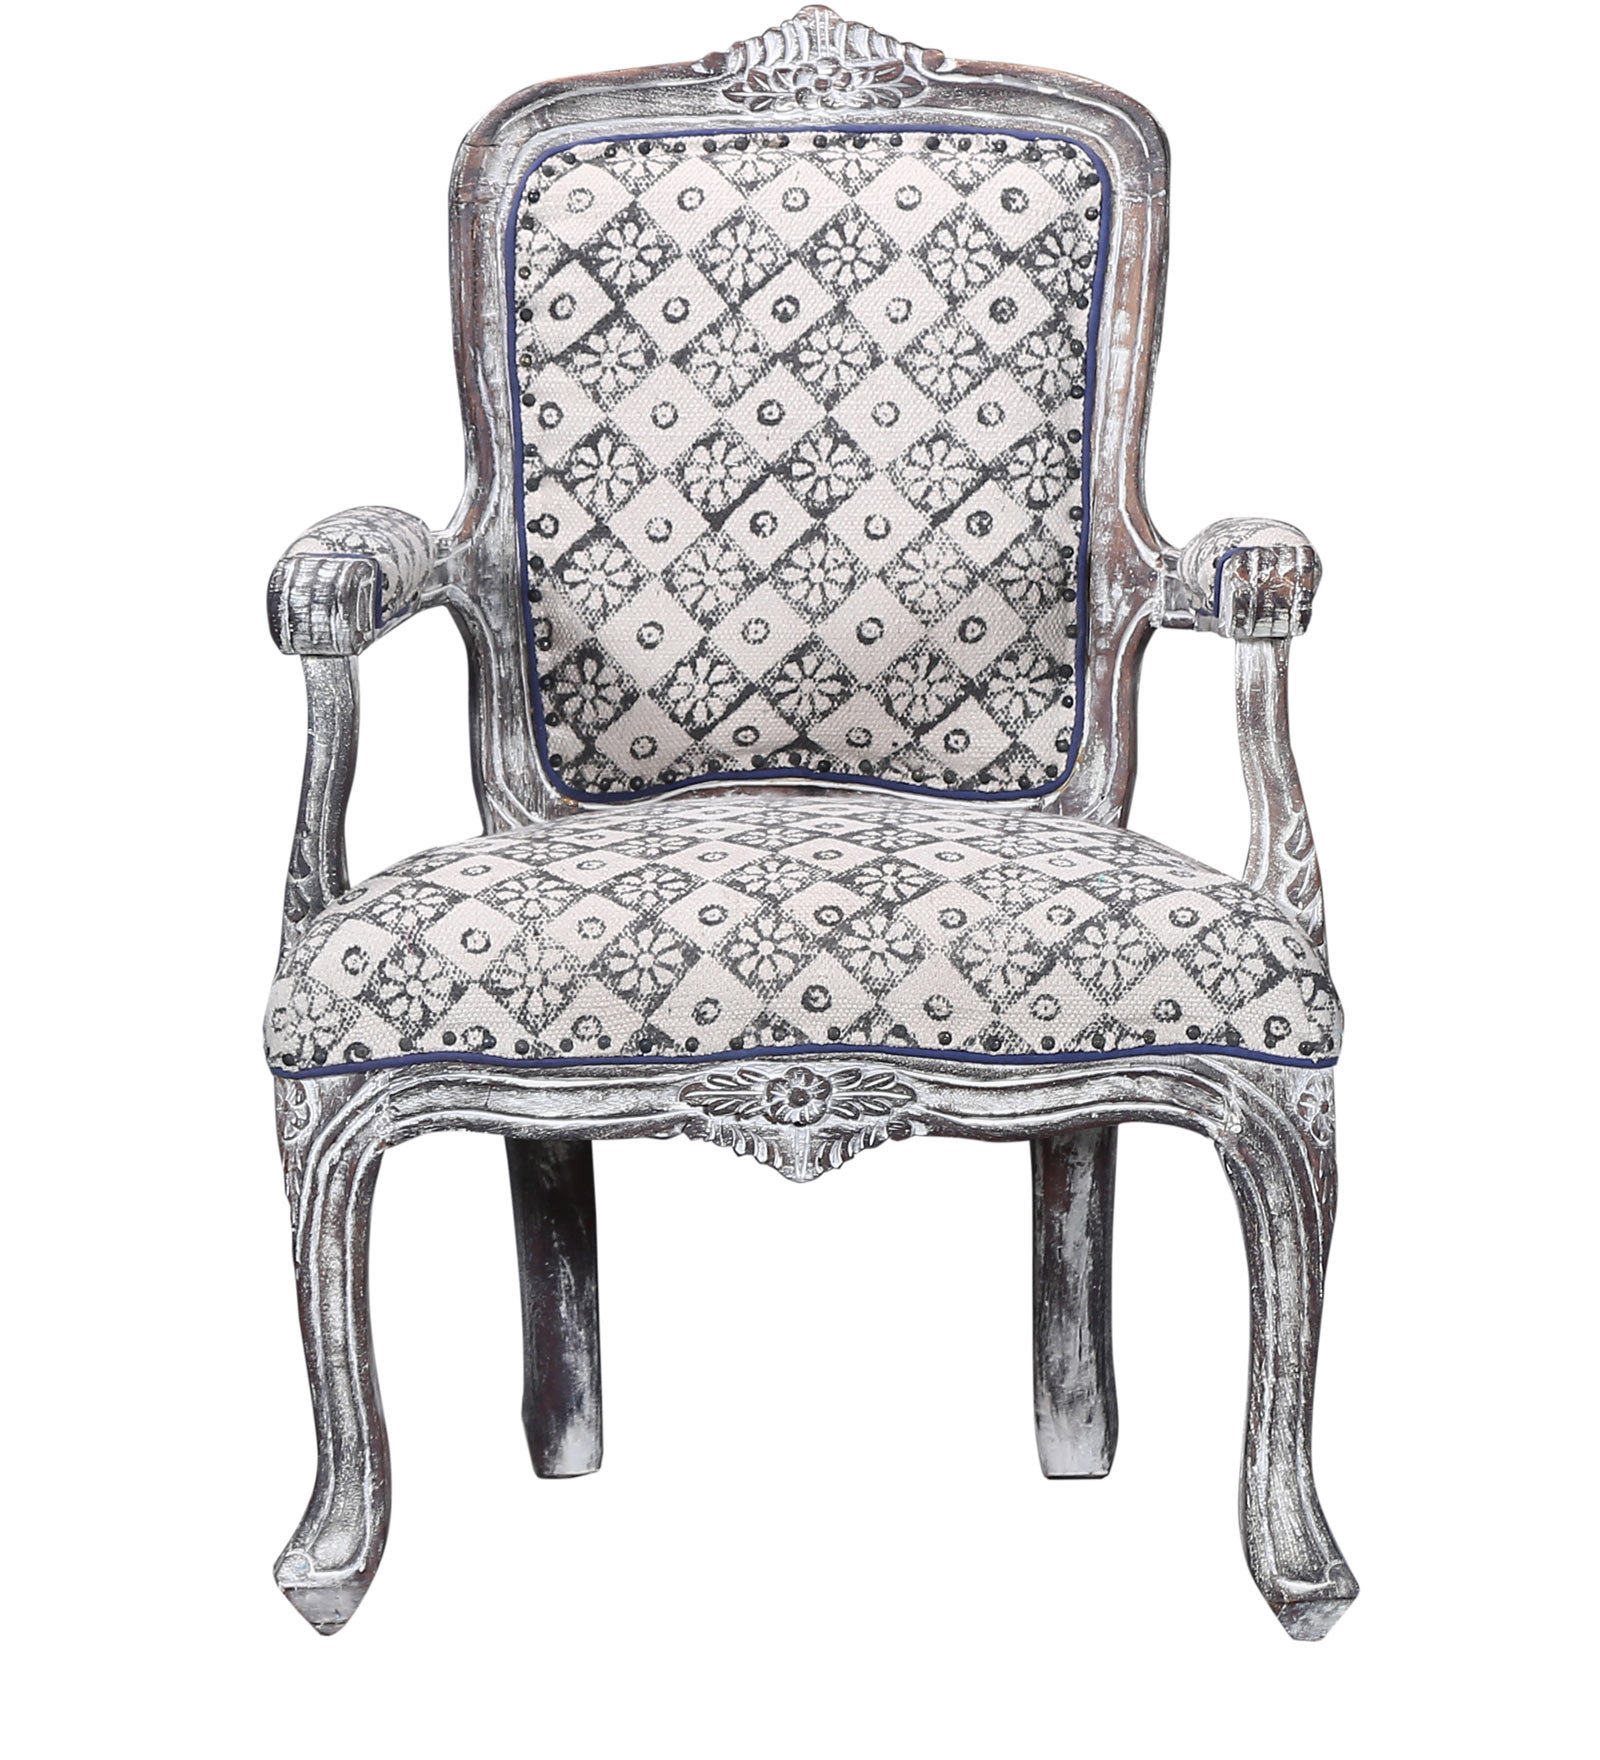Elton Arm Chair in Grey Colour by Bohemiana: (175, 8, 1490, 1709)
